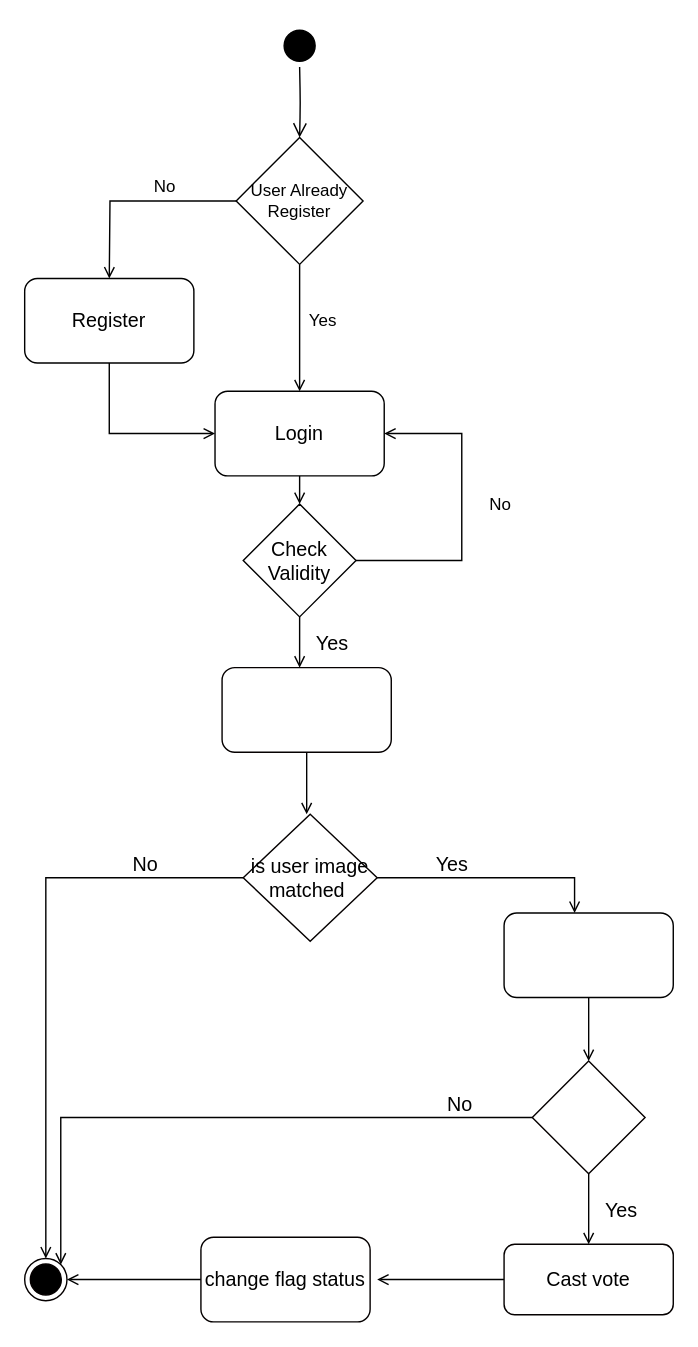
This 698x1347 diagram has some shape labels left out. The shapes that lost their labels are listed below. From the top down, each one's centre as x and y in pixels, then its label:
pixel 306 709: Face verification
pixel 588 955: Check if user is verify by the admin
pixel 588 1117: is user verified by admin
